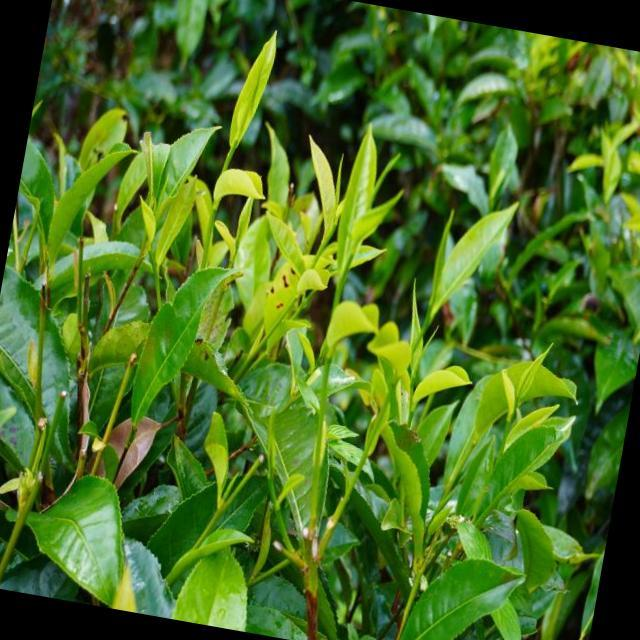Stem: (424, 316, 433, 325), (319, 242, 327, 251), (336, 284, 342, 293)
